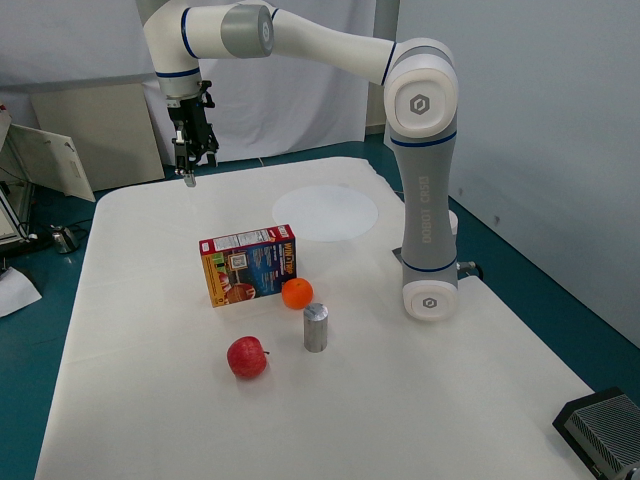apple: (222, 324, 275, 387)
metalROD: (298, 297, 335, 356)
